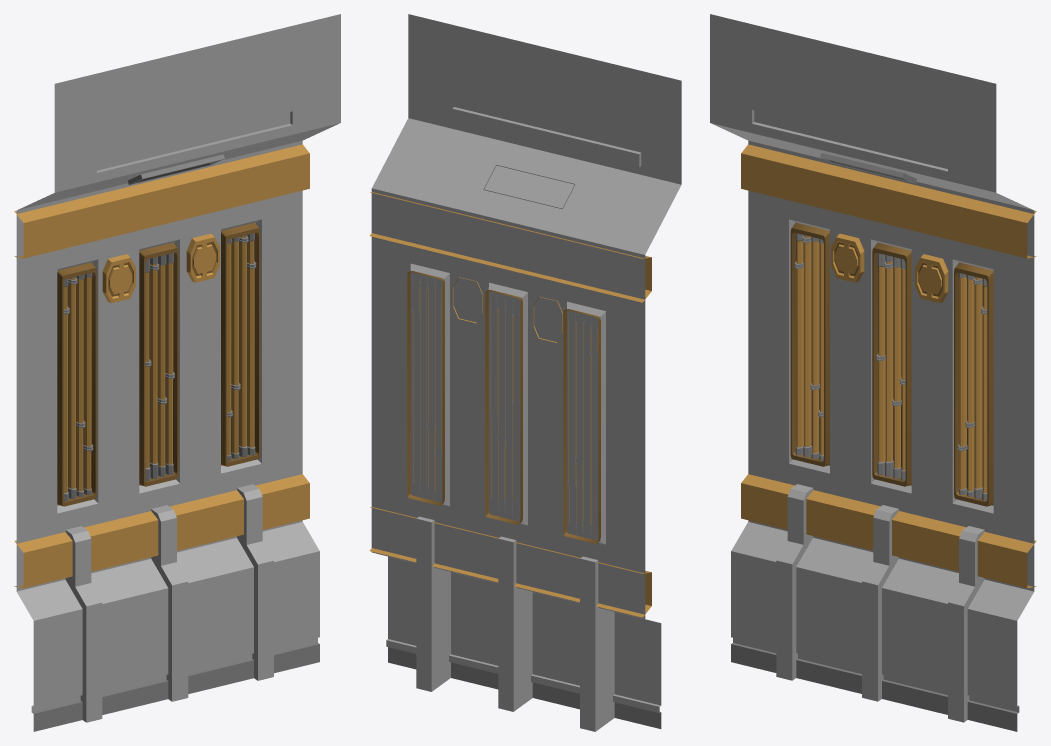
Rendered from WallVariant3.fbx.
3 renders of one model, left to right at view 1: azimuth 30°, elevation 25°; view 2: azimuth 150°, elevation 25°; view 3: azimuth 330°, elevation 25°, orthographic. The views are drawn at different scales.
Parts seen in each view (by area): view 1: Wall_2; view 2: Wall_2; view 3: Wall_2.
Boxes of the visible parts, box(x1,y1,x2,y2) form: Wall_2: box(14, 14, 340, 731); Wall_2: box(369, 14, 681, 731); Wall_2: box(710, 14, 1036, 731).
Size of the model in its own units: 2 by 4.43 by 0.5334.
